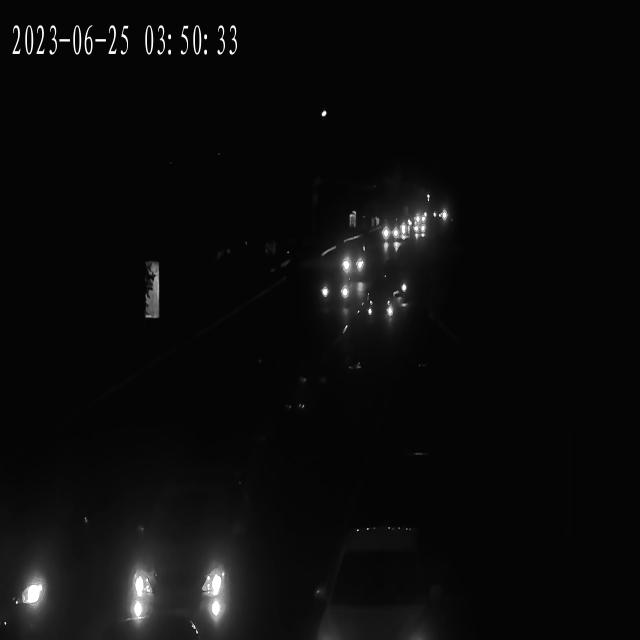Car: (18, 514, 156, 640), (310, 540, 438, 638), (318, 274, 352, 309), (385, 265, 413, 303), (337, 248, 370, 277), (369, 290, 393, 325), (382, 219, 408, 241), (381, 221, 405, 244), (412, 220, 428, 234), (411, 225, 427, 239), (434, 209, 451, 222), (412, 214, 428, 227), (431, 210, 447, 222)
Motorcycle: (194, 563, 238, 640)
